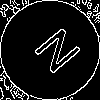N: (25, 25, 83, 82)
